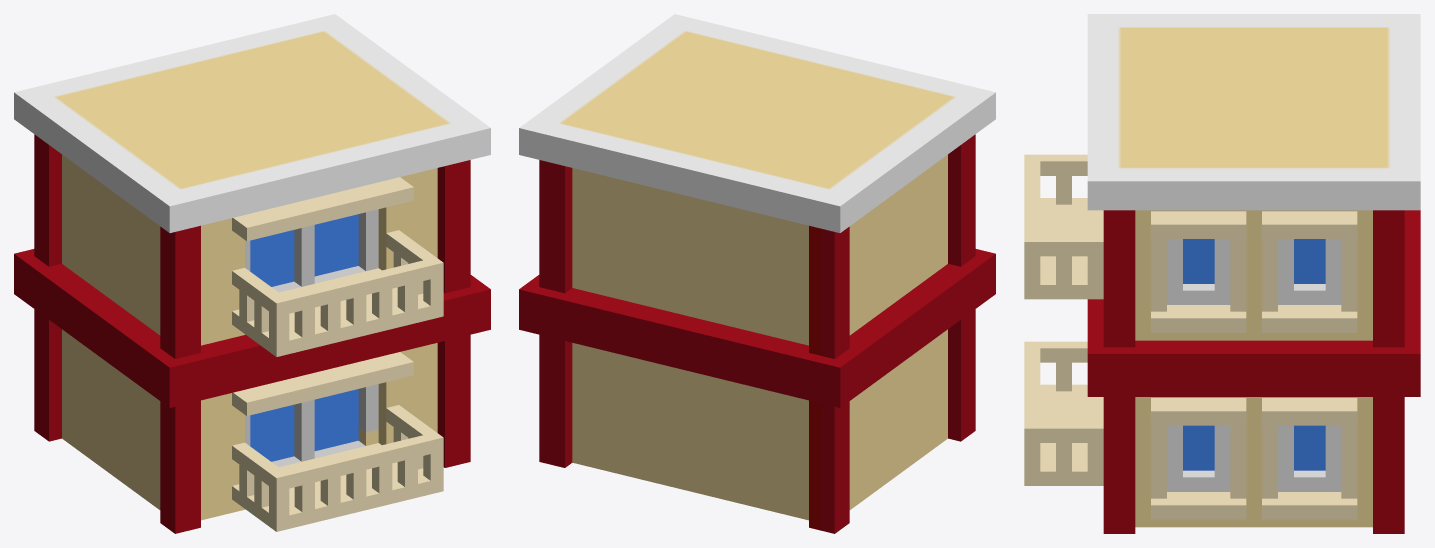
Rendered from thirteenthModel.fbx.
3 renders of one model, left to right at view 1: azimuth 30°, elevation 25°; view 2: azimuth 150°, elevation 25°; view 3: azimuth 270°, elevation 25°, orthographic. The views are drawn at different scales.
Visible parts, largest first — view 1: Box; view 2: Box; view 3: Box.
Part boxes in pixels (x1,y1,x2,y2): Box: (14,14,490,533); Box: (519,14,995,533); Box: (1024,14,1420,533).
Bounding box in the file's own units: 25 × 25 × 25.
1 material, 1 textured.
